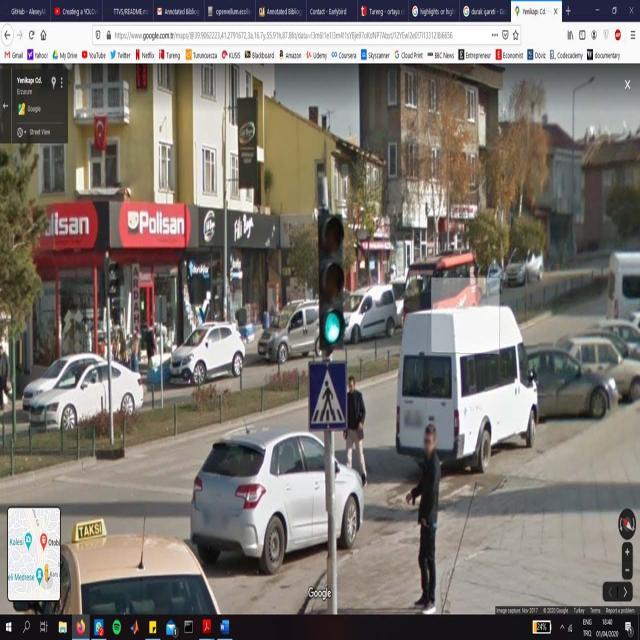yesil: (318, 210, 345, 348)
